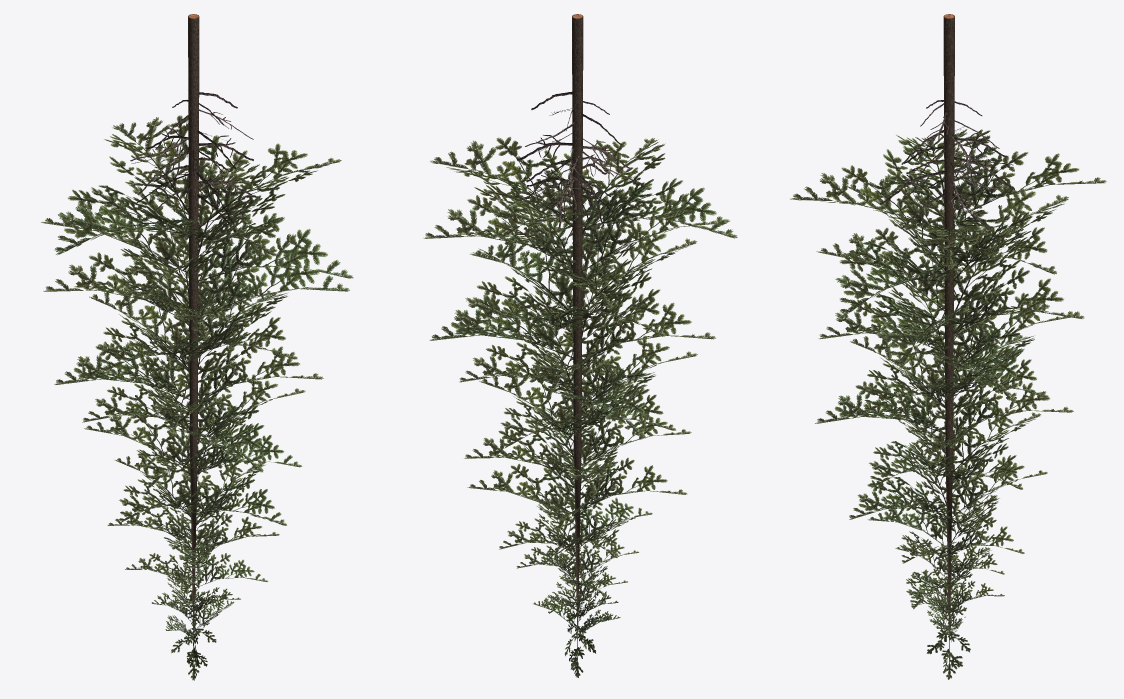
The model's file is Top.fbx.
3 renders of one model, left to right at view 1: azimuth 30°, elevation 25°; view 2: azimuth 150°, elevation 25°; view 3: azimuth 270°, elevation 25°, orthographic.
Parts seen in each view (by area): view 1: Top; view 2: Top; view 3: Top.
Boxes of the visible parts, left/top/right/bottom form: Top: left=41, top=14, right=353, bottom=680; Top: left=423, top=14, right=737, bottom=677; Top: left=790, top=14, right=1106, bottom=679.
Bounding box in the file's own units: 23.3 × 47.08 × 20.65.
